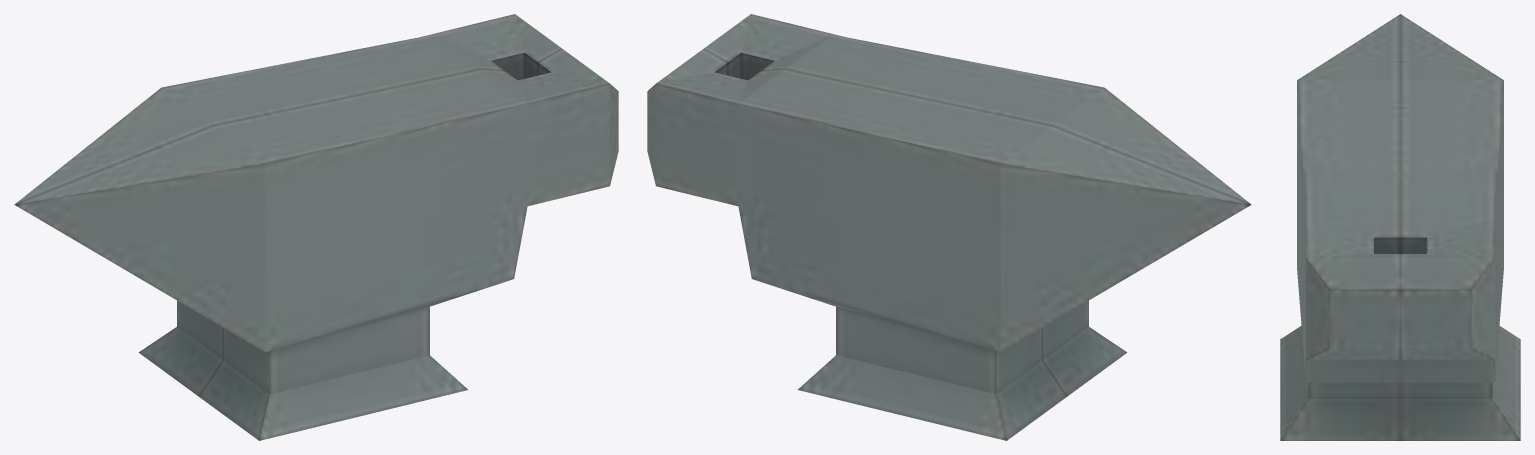
File: free_medieval_anvil.glb
3 renders of one model, left to right at view 1: azimuth 30°, elevation 25°; view 2: azimuth 150°, elevation 25°; view 3: azimuth 270°, elevation 25°, orthographic.
Visible parts, largest first — view 1: anvil_blacksmith_0; view 2: anvil_blacksmith_0; view 3: anvil_blacksmith_0.
Part boxes in pixels (<box>): anvil_blacksmith_0: <box>14,14,618,440</box>; anvil_blacksmith_0: <box>647,14,1251,440</box>; anvil_blacksmith_0: <box>1280,14,1520,440</box>.
Bounding box in the file's own units: 1.29 × 0.5818 × 0.4763.
Materials: 1 (1 with a texture image).
